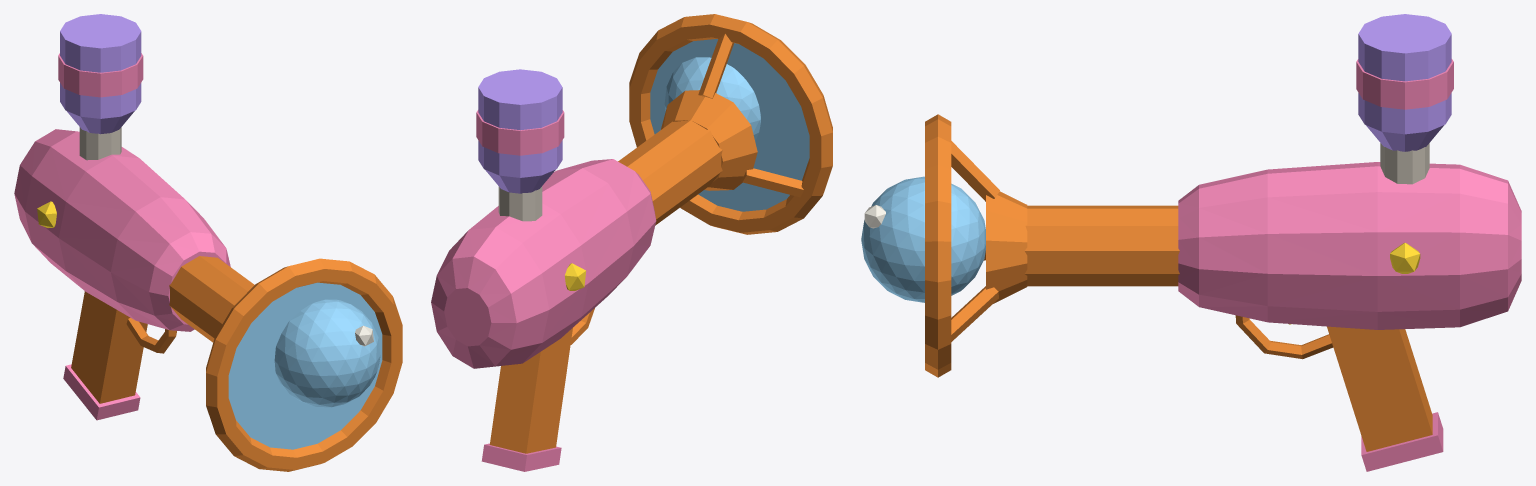
The model's file is BubbleGun.obj.
The picture shows the model from 3 angles, left to right: view 1: azimuth 30°, elevation 25°; view 2: azimuth 150°, elevation 25°; view 3: azimuth 270°, elevation 25°; orthographic projection. The views are drawn at different scales.
Parts seen in each view (by area): view 1: BubbleGun; view 2: BubbleGun; view 3: BubbleGun.
Part boxes in pixels (bbox=[...]): BubbleGun: bbox=[14, 14, 402, 471]; BubbleGun: bbox=[431, 14, 832, 471]; BubbleGun: bbox=[861, 14, 1521, 471].
Bounding box in the file's own units: 0.1896 × 0.3427 × 0.481.
